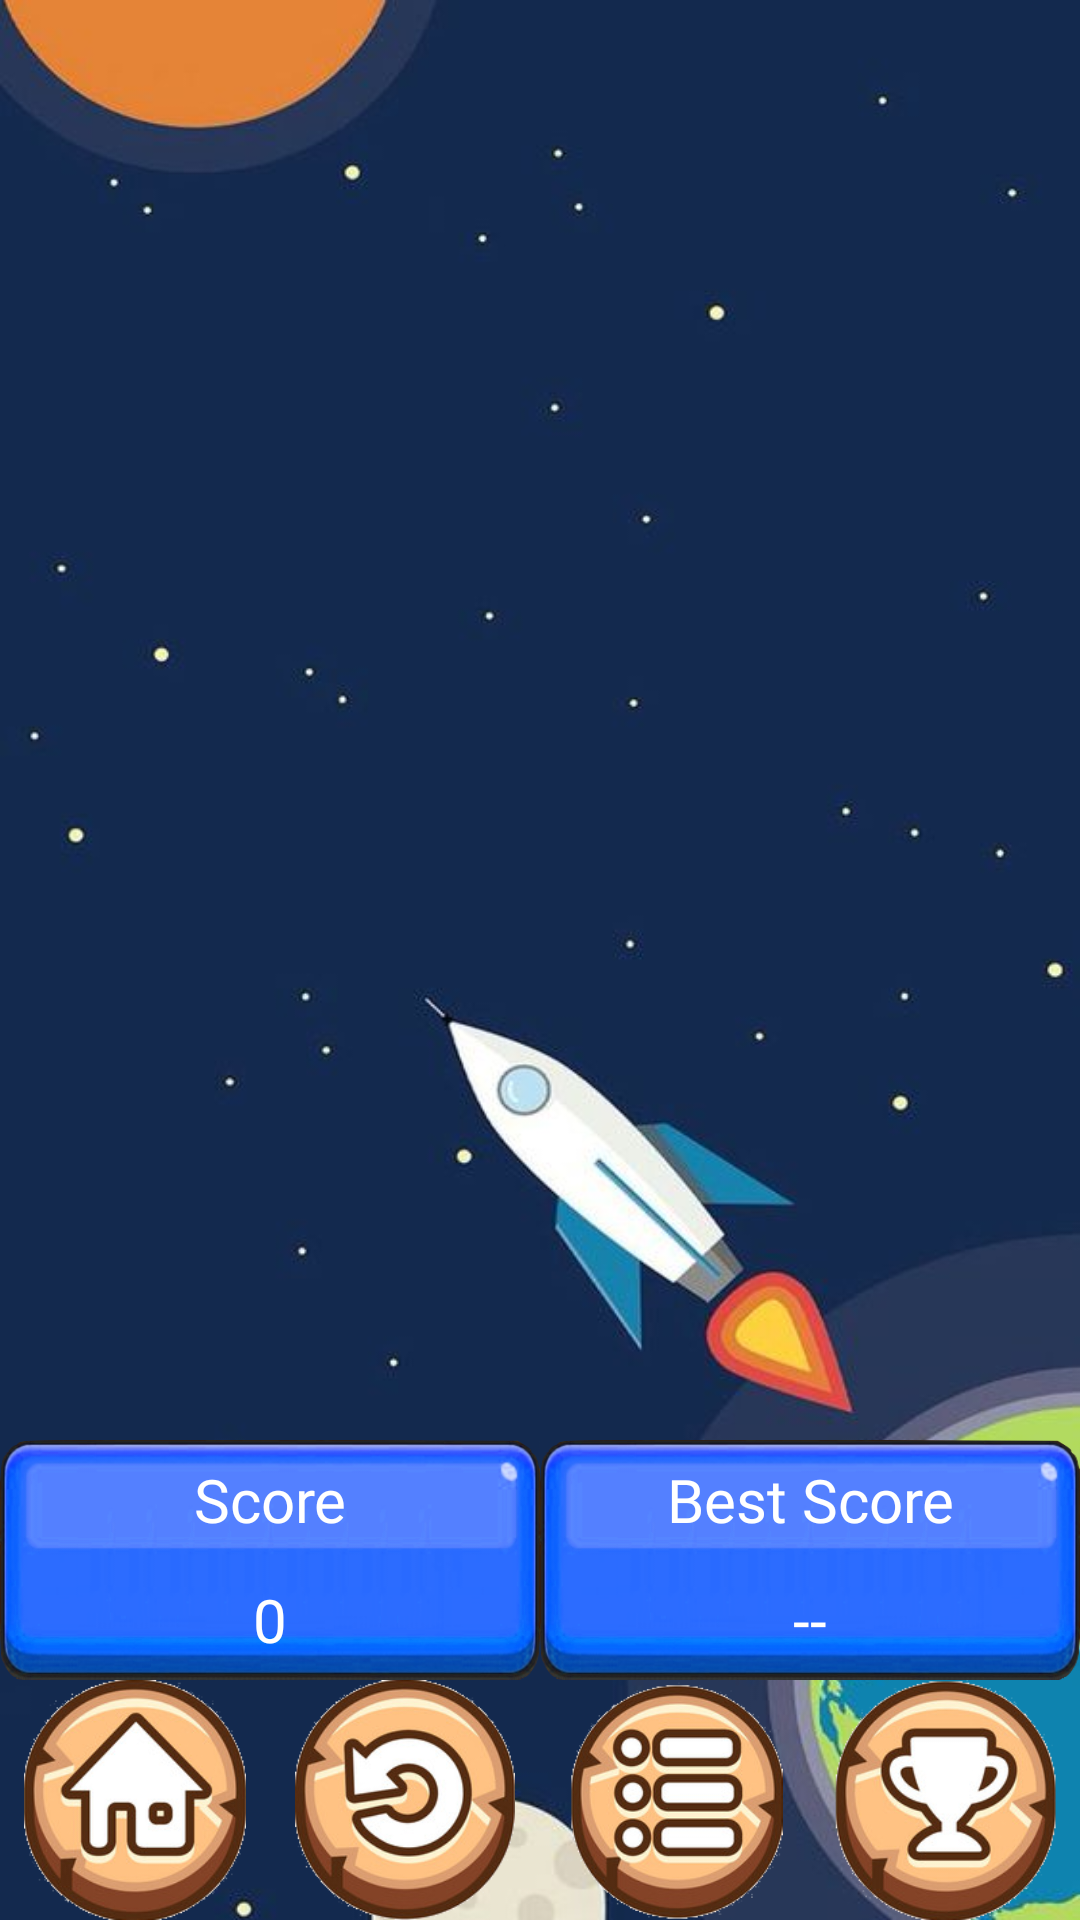

Named icons in this screenshot (1080x1920) and their centers, point (x, y):
home: point (139, 1800)
menu: point (675, 1800)
return: point (405, 1800)
trophy: point (945, 1800)
